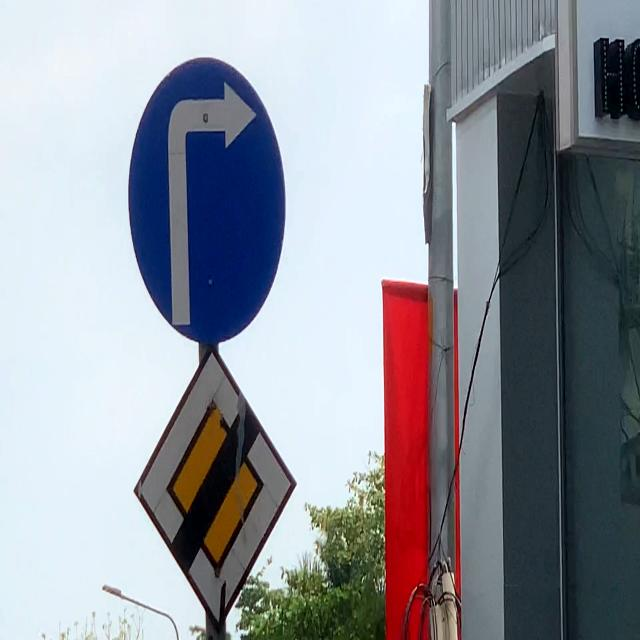R.301d: (128, 56, 286, 345)
